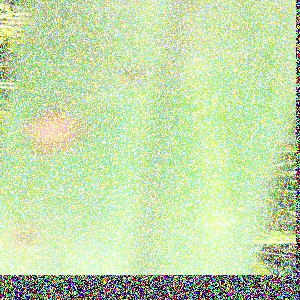Brown_Spot: (16, 95, 92, 180)
